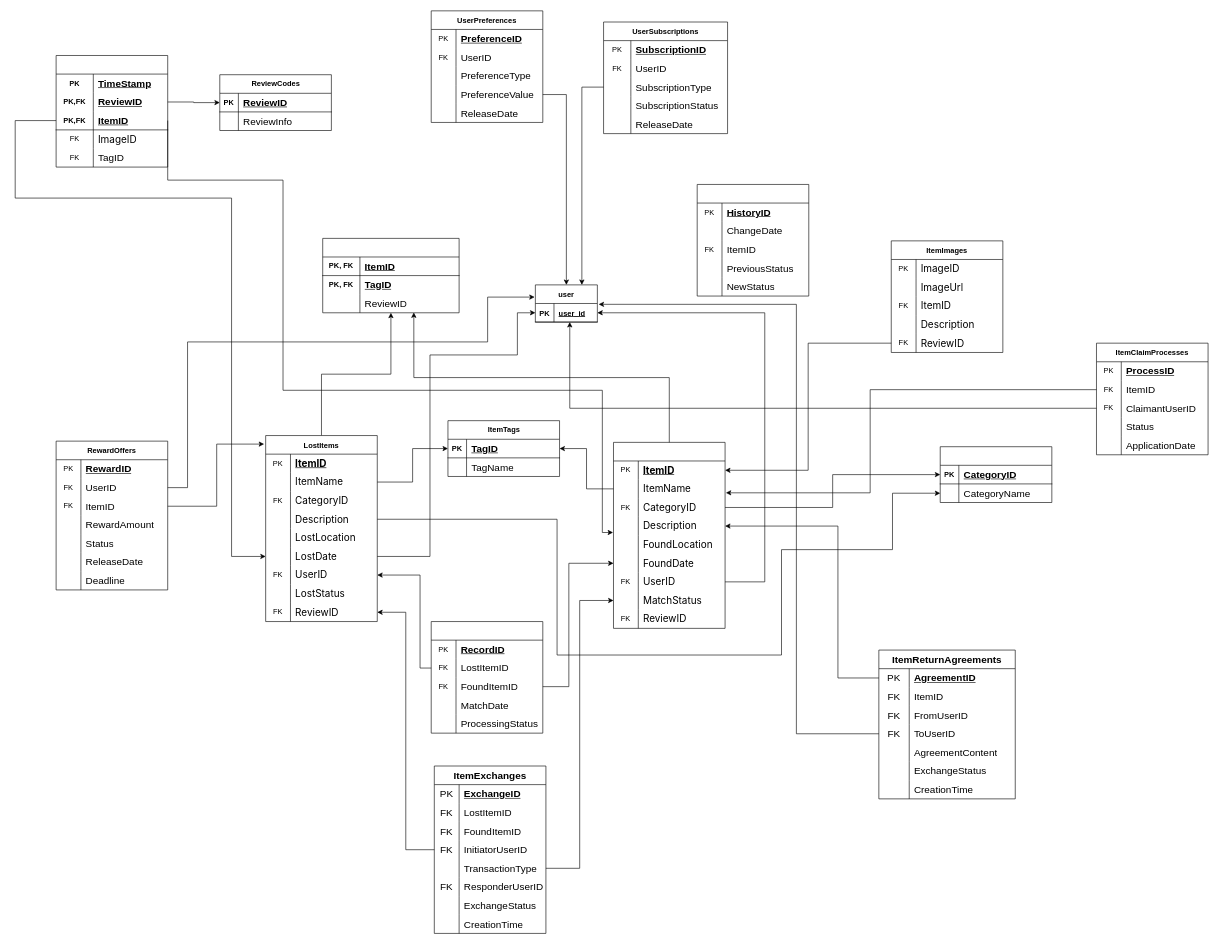
This 1219x944 diagram has some shape labels left out. The shapes that lost their labels are listed below. From the top down, each one's box as (x1, y1, x2, y2) in pixels, then its label:
(55, 55, 168, 167): ItemReviewLinks
(697, 184, 809, 296): ItemStatusHistory
(322, 238, 459, 313): ItemTagsLinks
(940, 446, 1052, 503): ItemCategories
(613, 442, 725, 628): FoundItems
(431, 621, 543, 733): MatchRecords
